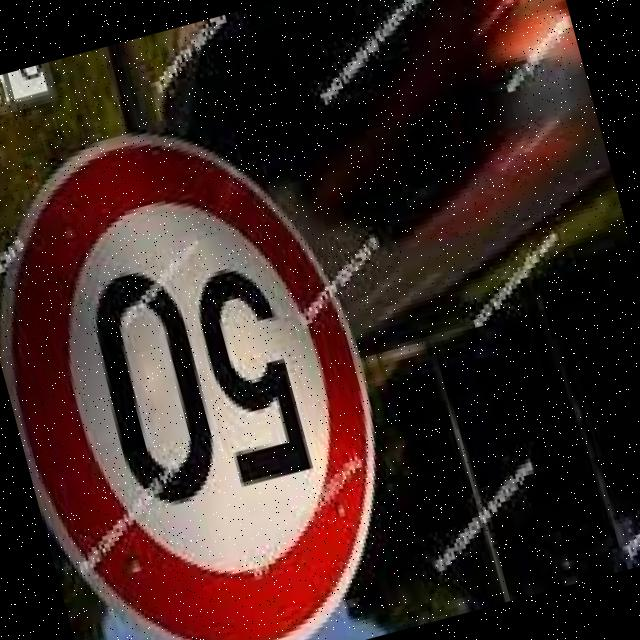speed_limit_50: (0, 83, 431, 640)
